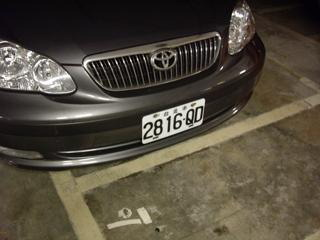plate: (138, 99, 205, 141)
